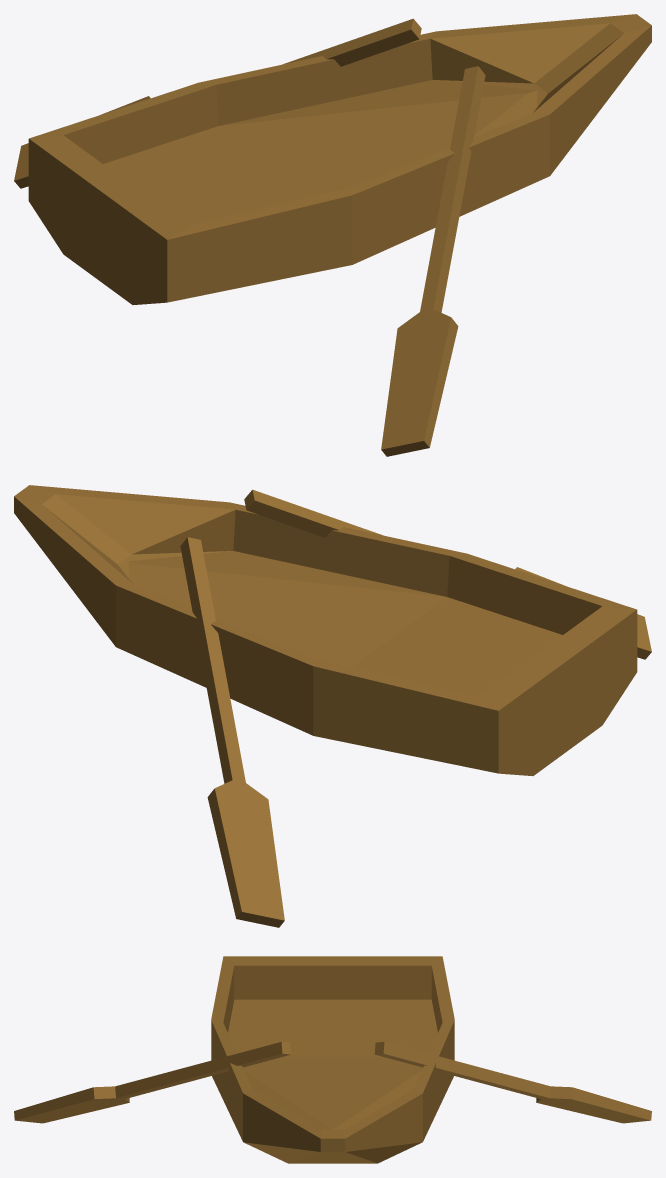
File: rowboat.gltf
The picture shows the model from 3 angles, top to bottom: view 1: azimuth 30°, elevation 25°; view 2: azimuth 150°, elevation 25°; view 3: azimuth 270°, elevation 25°; orthographic projection. The views are drawn at different scales.
Parts seen in each view (by area): view 1: Cube; view 2: Cube; view 3: Cube.
Part boxes in pixels (left/top/right/bottom): Cube: left=14, top=14, right=651, bottom=456; Cube: left=14, top=485, right=651, bottom=927; Cube: left=14, top=956, right=651, bottom=1163.
Size of the model in its own units: 4.1 by 1.59 by 5.24.
